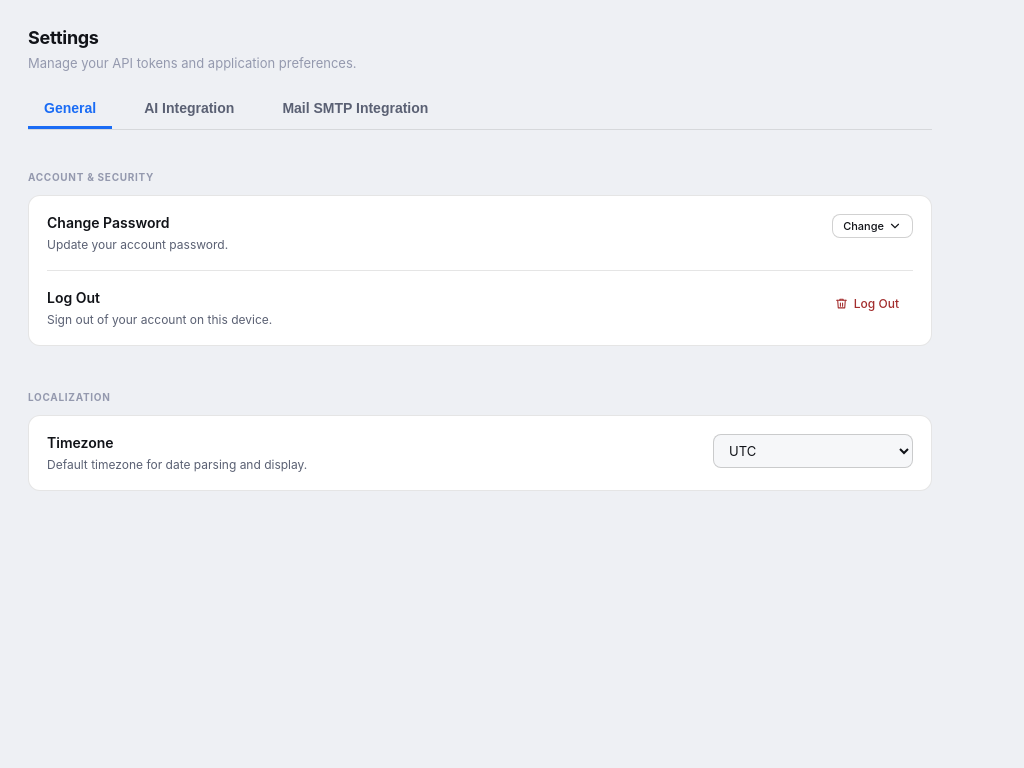
Test case: SettingsPage › shows password change form when expanded
Click the button "Change" at [873, 226], box [832, 214, 913, 238]
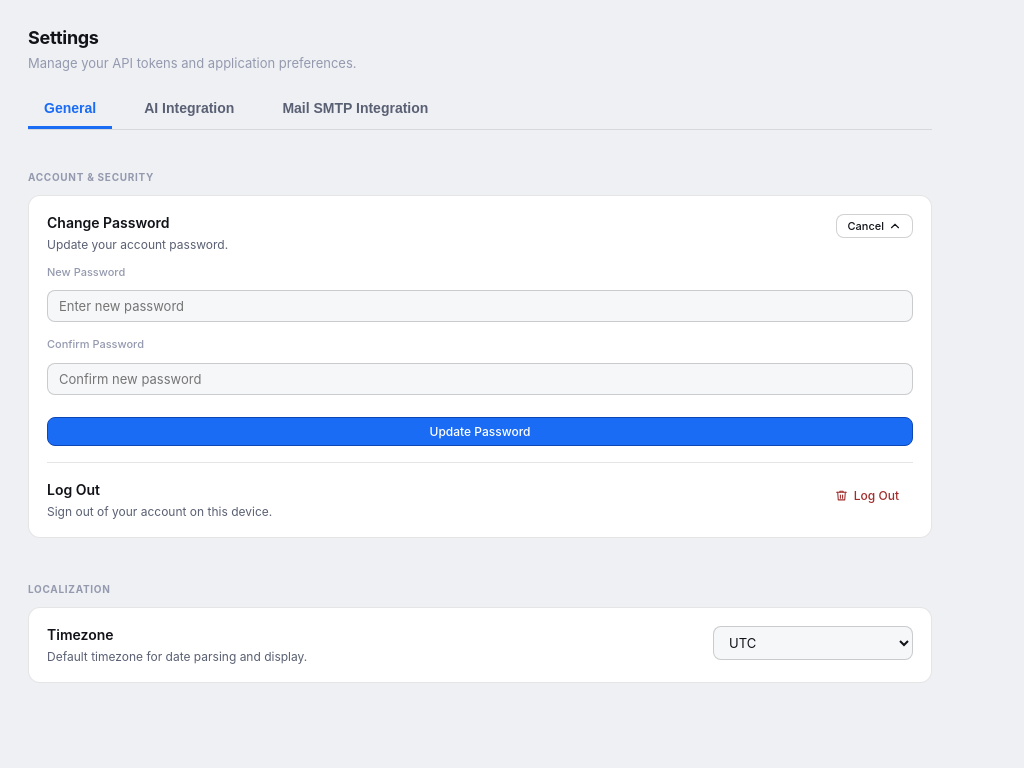
Now the password field with placeholder "Enter new password" is shown, box [47, 290, 913, 322]
Now the password field with placeholder "Confirm new password" is shown, box [47, 362, 913, 394]
